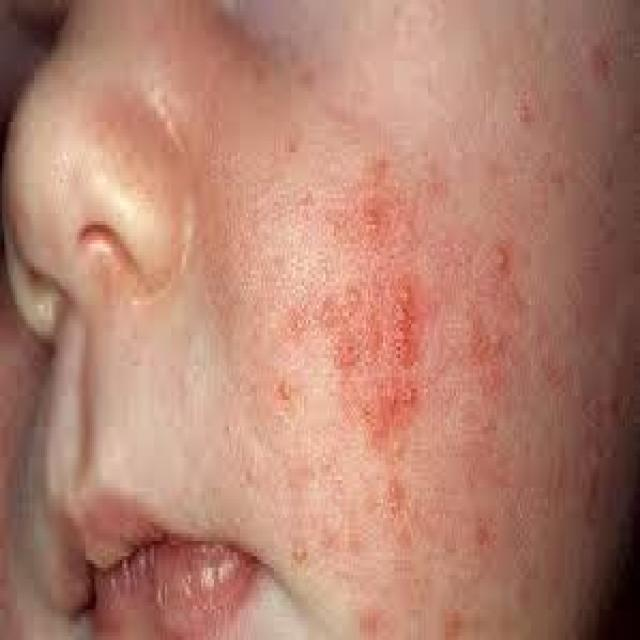Rosacea: (326, 200, 450, 452)
